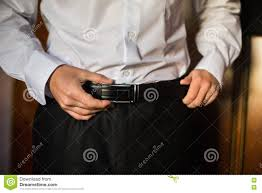F_belt: (73, 75, 206, 109)
